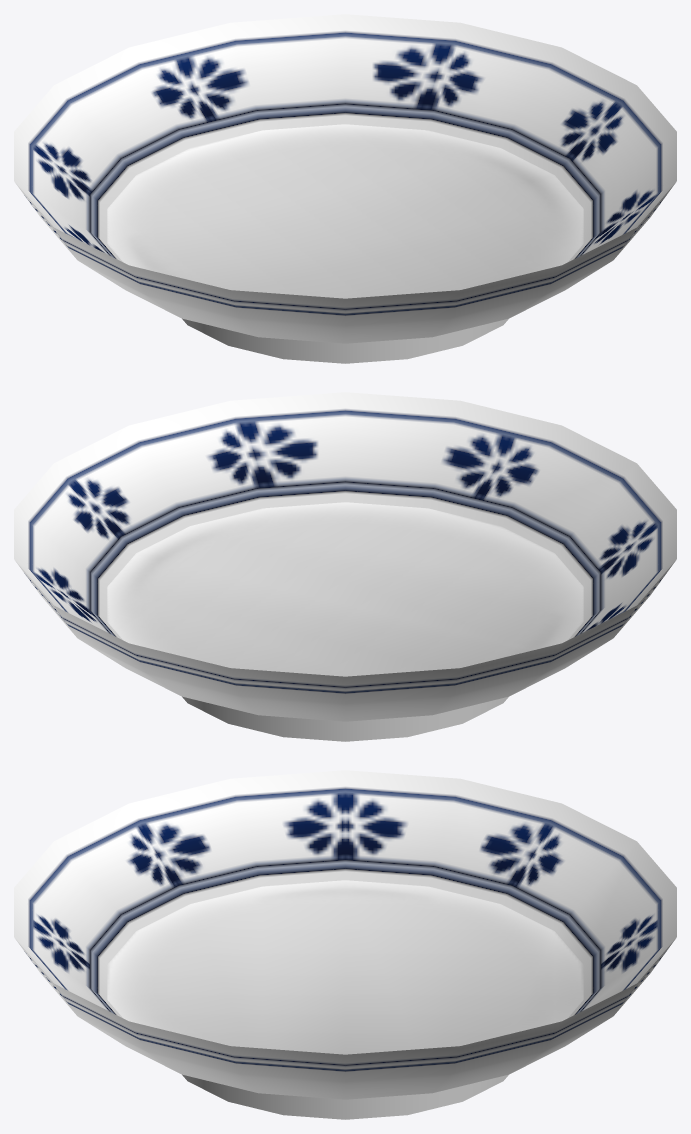
File: sara.fbx
3 renders of one model, top to bottom at view 1: azimuth 30°, elevation 25°; view 2: azimuth 150°, elevation 25°; view 3: azimuth 270°, elevation 25°, orthographic.
Parts seen in each view (by area): view 1: sara; view 2: sara; view 3: sara.
Boxes of the visible parts, x1,y1,x2,y2 form: sara: [14, 14, 676, 363]; sara: [14, 392, 676, 741]; sara: [14, 770, 676, 1119].
Size of the model in its own units: 2.15 by 0.4602 by 2.12.
1 material, 1 textured.
